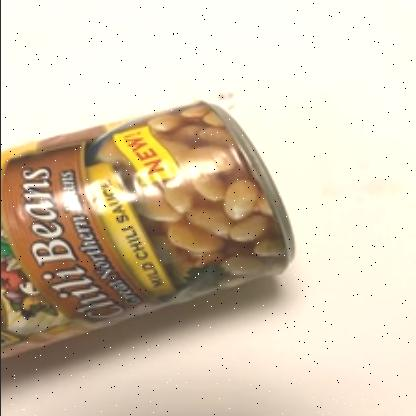Can: (0, 101, 296, 361)
